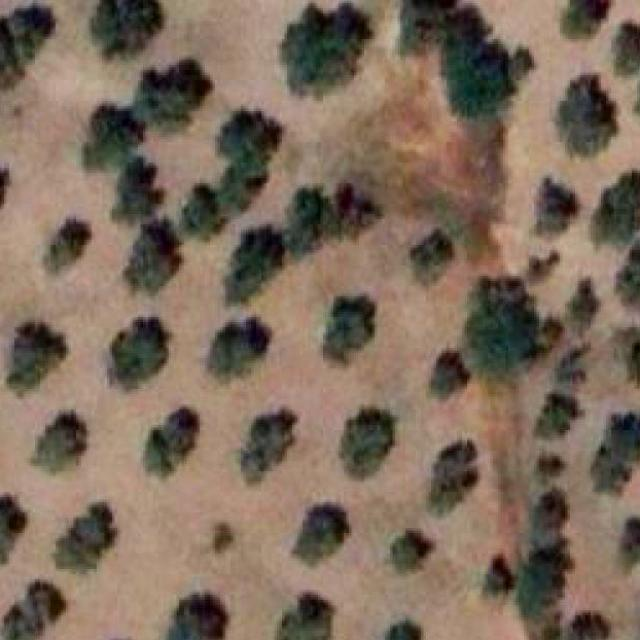Tree: (276, 0, 372, 97), (274, 178, 380, 260), (466, 284, 539, 386), (131, 59, 210, 132), (550, 73, 616, 160), (442, 42, 514, 120), (218, 224, 282, 308), (2, 319, 71, 391), (48, 502, 114, 575), (201, 315, 271, 382), (1, 0, 57, 83), (426, 441, 486, 516), (85, 0, 163, 57), (588, 165, 640, 249), (0, 574, 66, 640), (239, 406, 297, 481), (124, 219, 181, 295), (141, 408, 202, 477), (287, 500, 351, 565), (335, 408, 395, 477), (317, 291, 374, 362), (108, 320, 169, 386), (31, 412, 91, 478), (519, 541, 575, 609), (79, 106, 140, 168), (594, 409, 640, 491), (163, 589, 233, 640), (34, 219, 95, 276), (393, 0, 452, 56), (104, 165, 160, 223), (222, 114, 284, 165), (532, 389, 582, 450), (406, 227, 457, 285), (527, 178, 580, 233), (282, 587, 334, 640), (182, 188, 231, 242), (439, 5, 488, 54), (528, 485, 572, 538), (423, 353, 470, 401), (388, 528, 434, 576), (566, 276, 611, 324), (562, 0, 613, 42), (0, 497, 33, 558), (222, 166, 266, 211), (613, 512, 640, 578), (616, 238, 640, 312), (618, 322, 640, 402), (476, 554, 516, 598), (608, 19, 640, 71), (560, 610, 611, 640), (520, 253, 562, 288), (556, 348, 592, 386), (206, 522, 237, 556), (532, 454, 568, 483), (382, 615, 423, 640), (511, 44, 536, 77), (538, 322, 565, 351), (0, 157, 13, 211), (629, 73, 640, 134)
